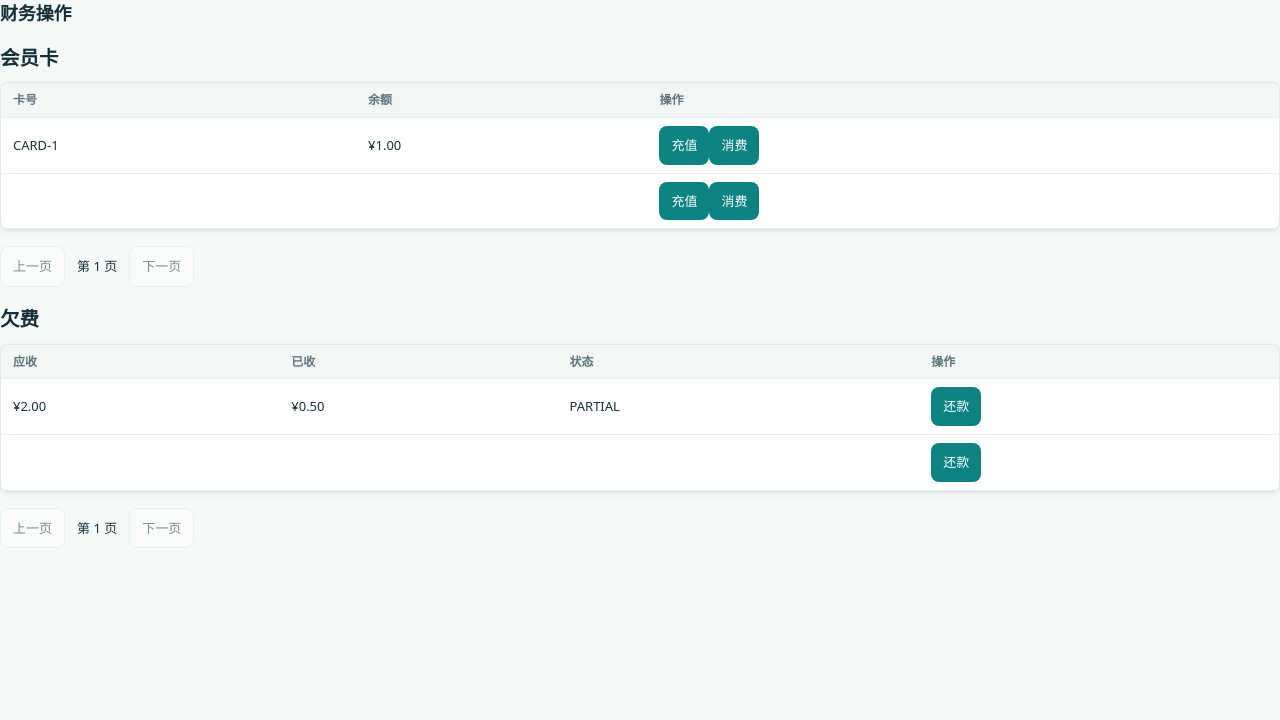
Test: FinanceWorkflowPage › submits debt payments through the amount dialog
The image size is (1280, 720).
Click the button "还款" in the row of "¥2.00": (956, 406) x1=931 y1=387 x2=981 y2=426
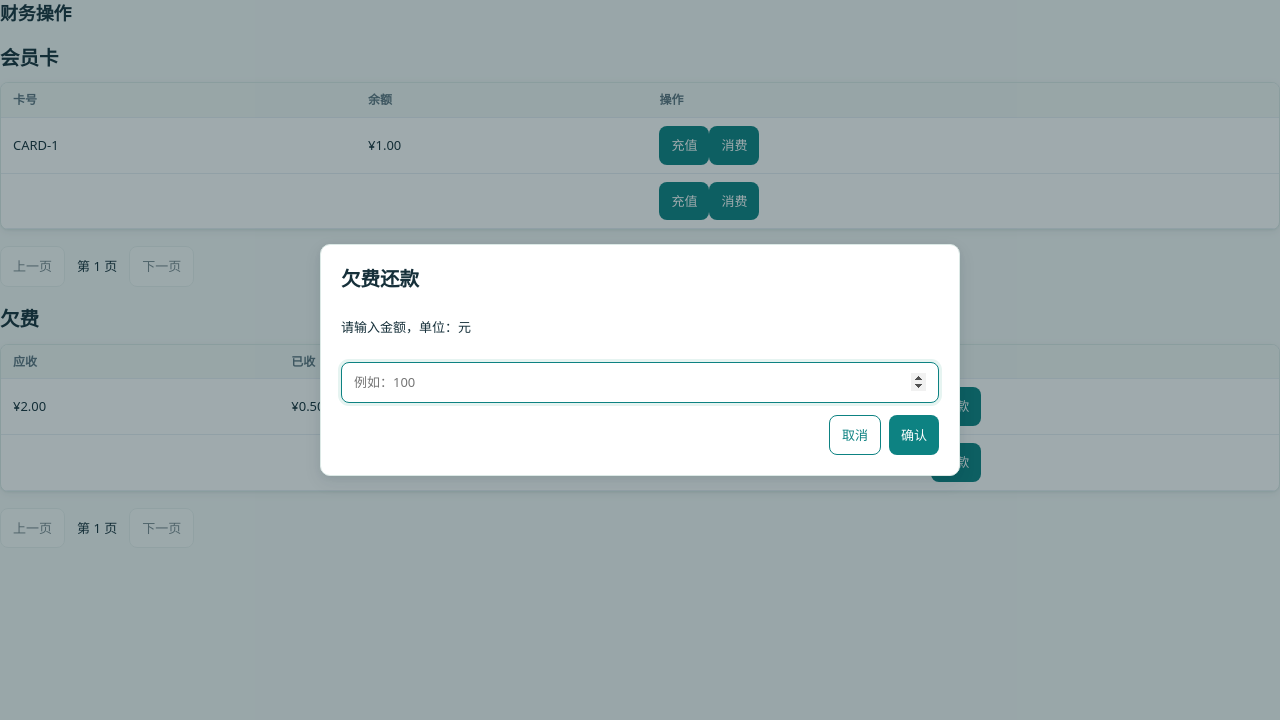
In the number field with placeholder "例如：100": (640, 382) x1=341 y1=362 x2=939 y2=402, type "1.5"
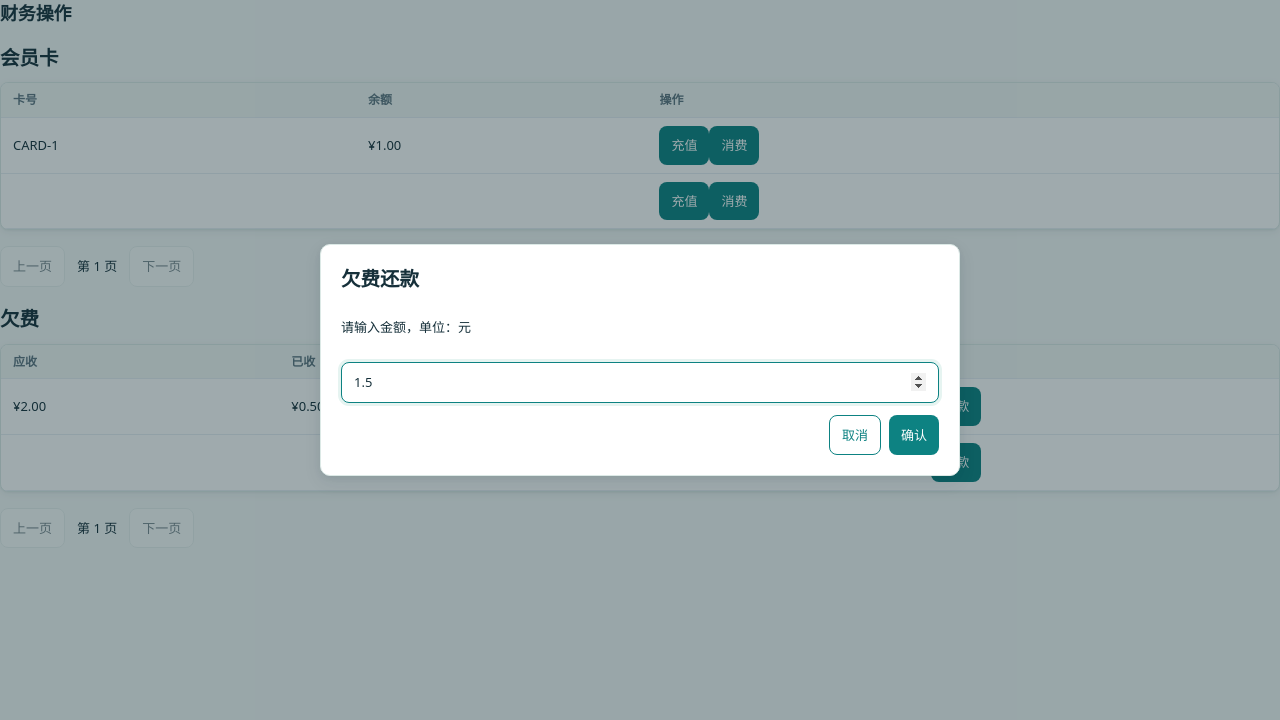
Submit the form with placeholder "例如：100", box x1=341 y1=305 x2=939 y2=455
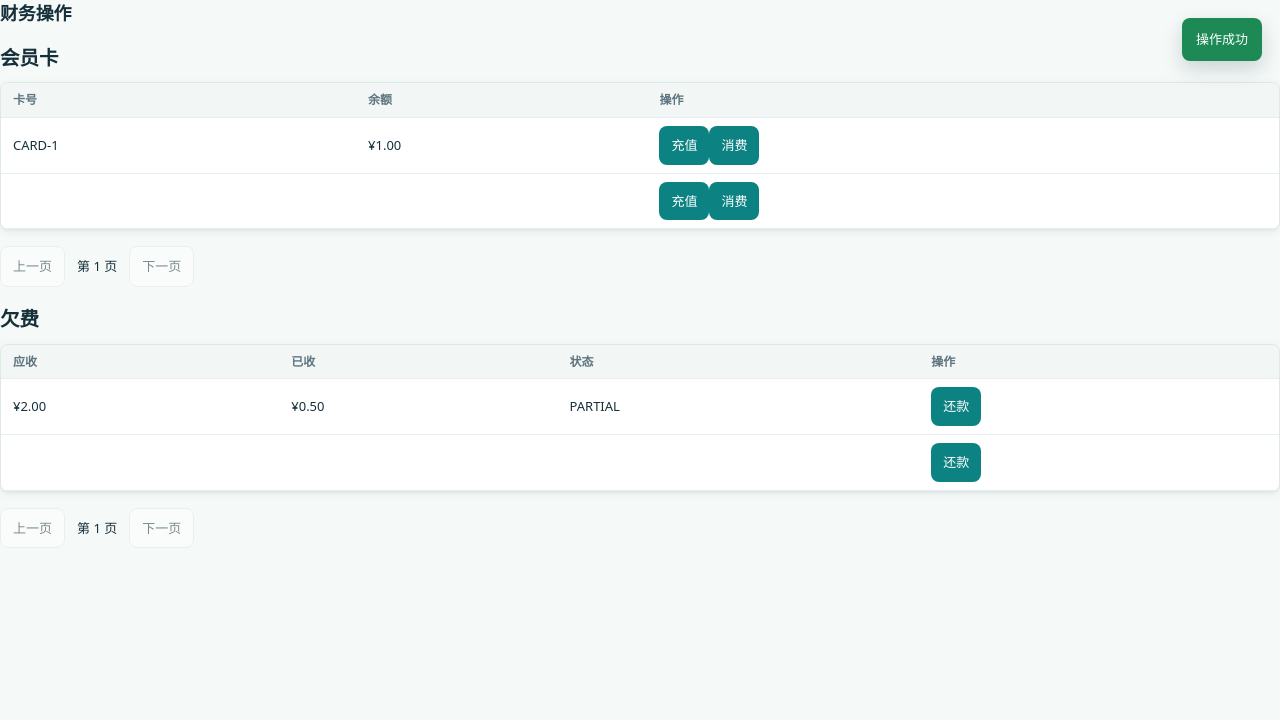
Check: the dialog is gone
